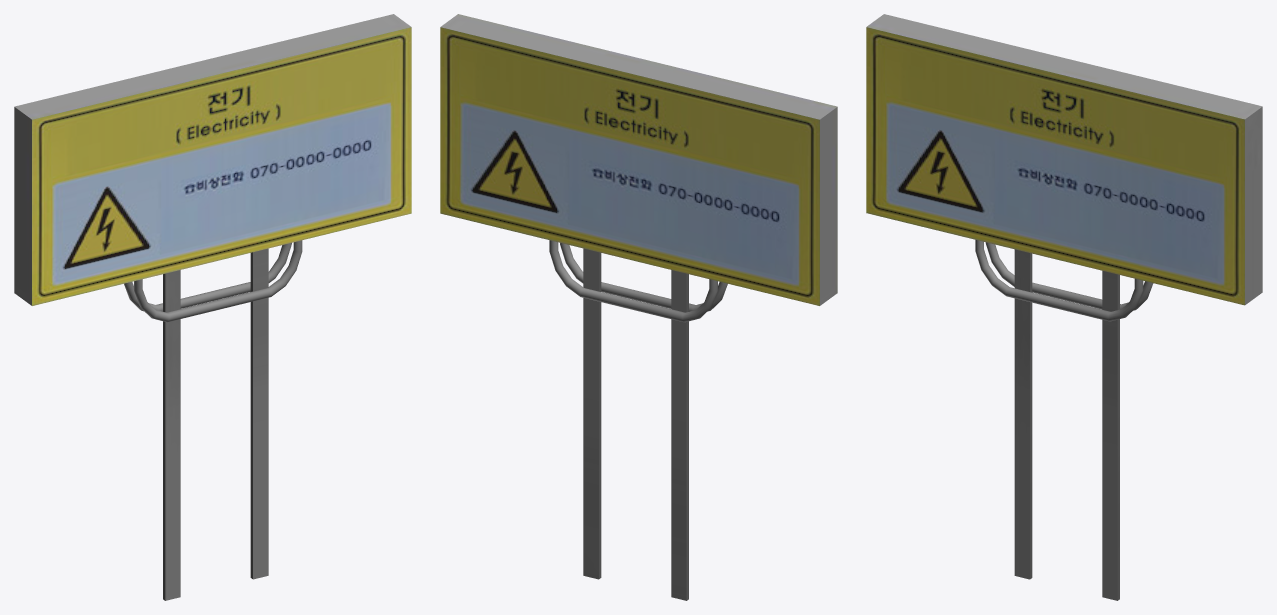
Rendered from cautionElectricity.gltf.
3 renders of one model, left to right at view 1: azimuth 30°, elevation 25°; view 2: azimuth 150°, elevation 25°; view 3: azimuth 330°, elevation 25°, orthographic.
Parts seen in each view (by area): view 1: electricity; view 2: electricity; view 3: electricity.
Part boxes in pixels (x1,y1,x2,y2): electricity: (14, 14, 411, 600); electricity: (440, 14, 837, 600); electricity: (866, 14, 1262, 600).
Size of the model in its own units: 21.53 by 28.25 by 1.76.
Materials: 1 (1 with a texture image).
